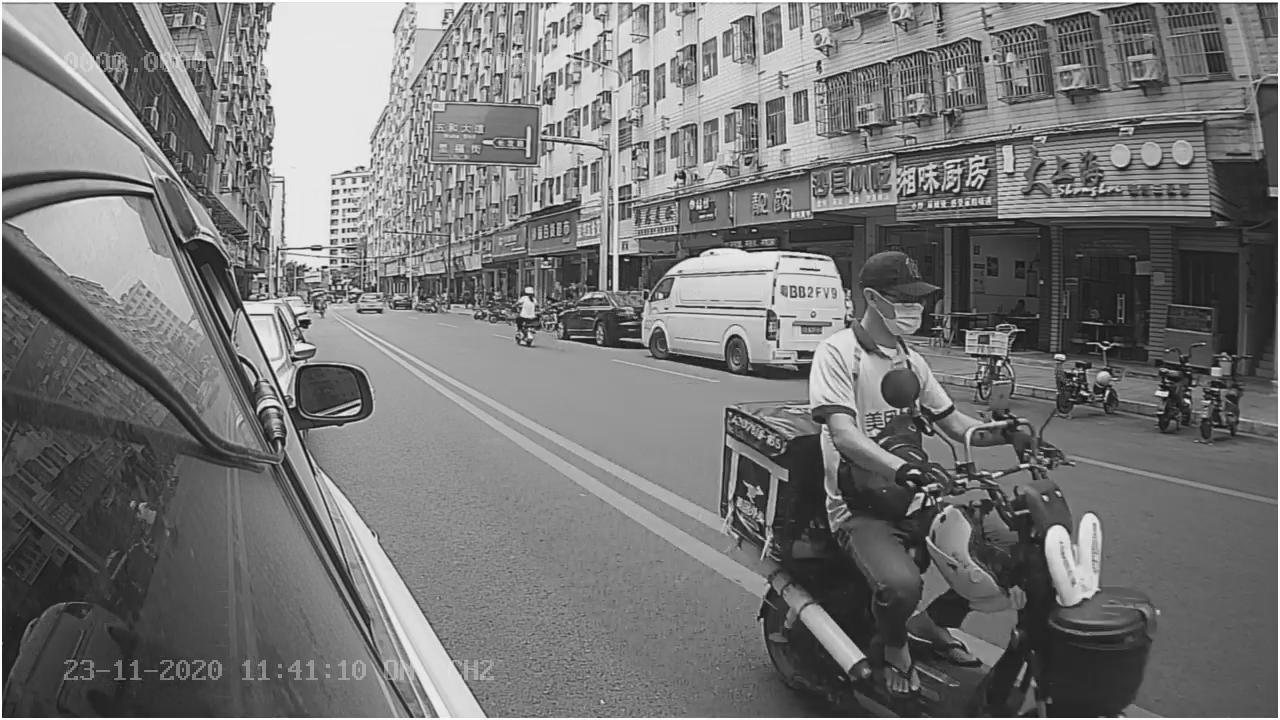person: (805, 244, 959, 484)
